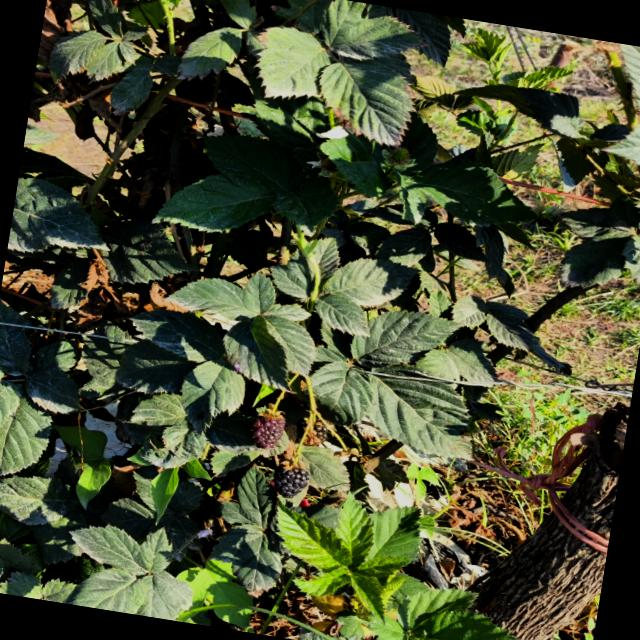maduro: (273, 466, 309, 499)
marron: (252, 411, 286, 449)
verde: (382, 147, 415, 171)
